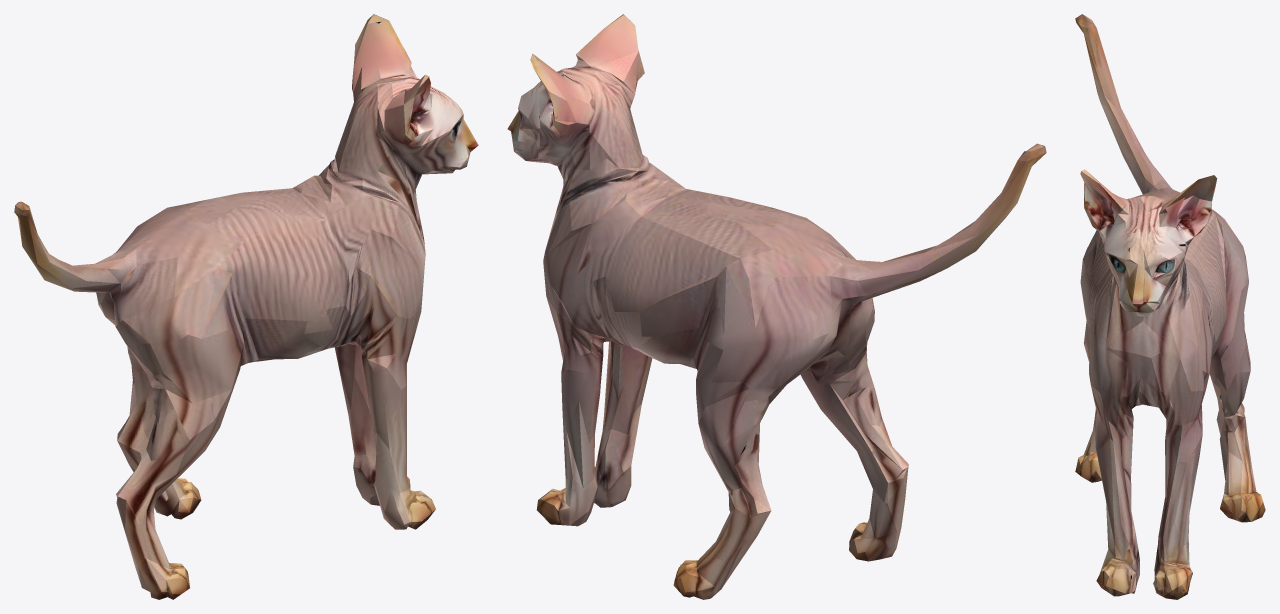
The model's file is BIGGLESCAT-lo.glb.
3 renders of one model, left to right at view 1: azimuth 30°, elevation 25°; view 2: azimuth 150°, elevation 25°; view 3: azimuth 270°, elevation 25°, orthographic. The views are drawn at different scales.
Visible parts, largest first — view 1: output_unwrapped; view 2: output_unwrapped; view 3: output_unwrapped.
Boxes of the visible parts, x1,y1,x2,y2 form: output_unwrapped: (14,14,478,599); output_unwrapped: (507,14,1046,599); output_unwrapped: (1075,14,1265,599).
Bounding box in the file's own units: 1.11 × 1 × 0.4076.
1 material, 1 textured.
